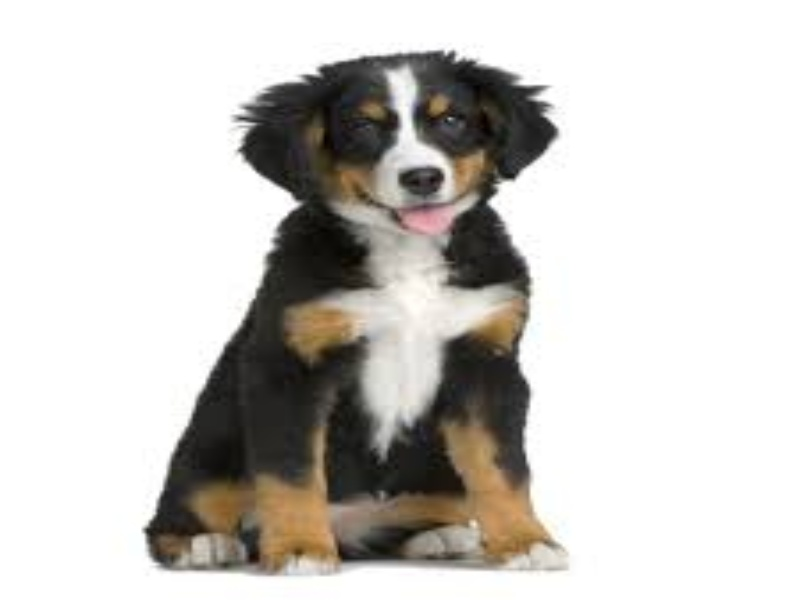dog: (141, 42, 589, 578)
